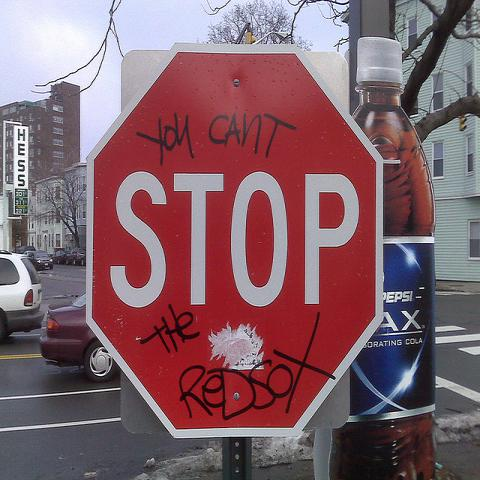car: (37, 286, 115, 384), (1, 252, 42, 343), (28, 250, 54, 272), (64, 247, 86, 266), (51, 255, 65, 265), (78, 250, 86, 266), (19, 246, 36, 253), (24, 250, 35, 258)
